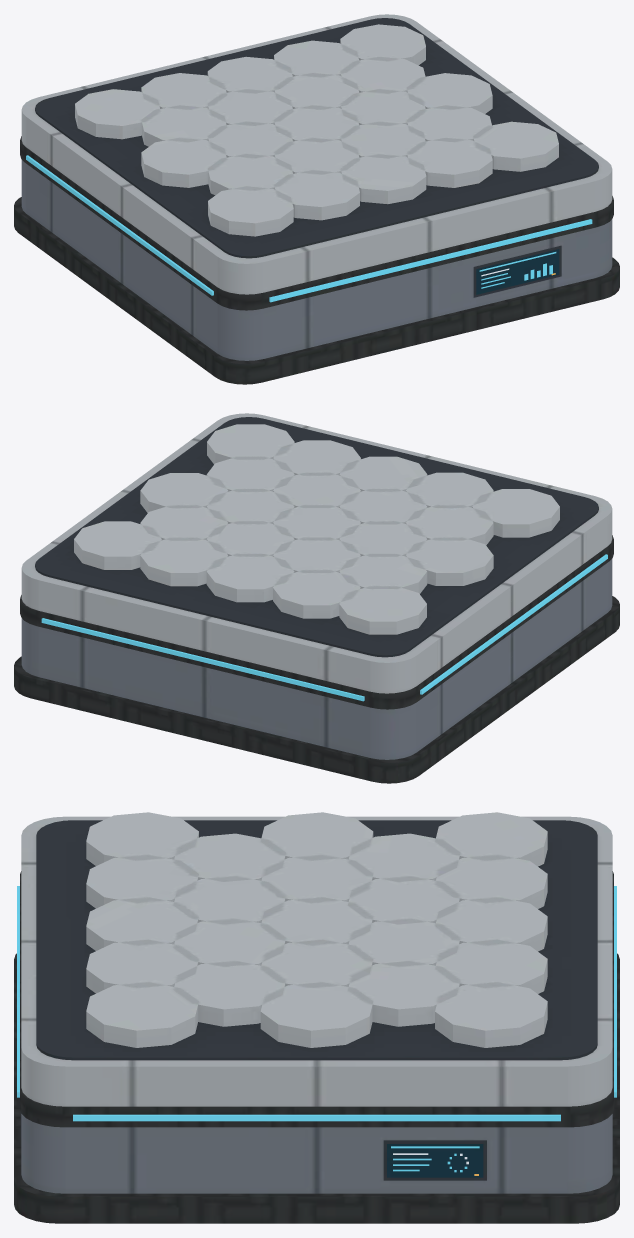
File: enterprise_armor.glb
3 renders of one model, top to bottom at view 1: azimuth 30°, elevation 25°; view 2: azimuth 150°, elevation 25°; view 3: azimuth 270°, elevation 25°, orthographic. The views are drawn at different scales.
Parts seen in each view (by area): view 1: te_enterprise_armor; view 2: te_enterprise_armor; view 3: te_enterprise_armor.
Boxes of the visible parts, x1,y1,x2,y2 form: te_enterprise_armor: [14, 14, 619, 384]; te_enterprise_armor: [14, 413, 619, 783]; te_enterprise_armor: [14, 812, 619, 1223].
Size of the model in its own units: 0.82 by 0.26 by 0.82.
Materials: 1 (1 with a texture image).
